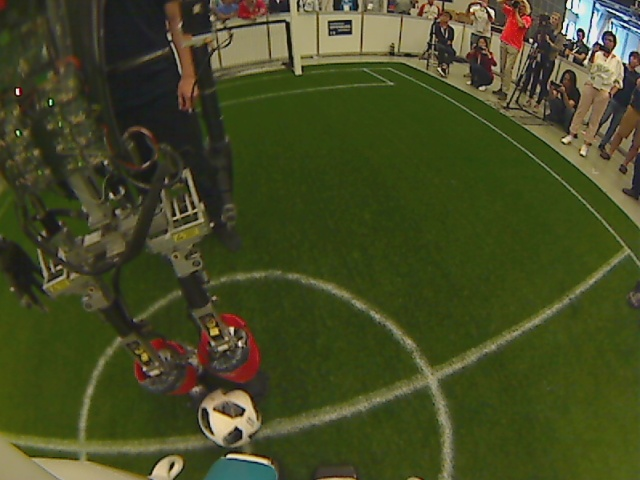ball: (194, 384, 266, 453)
